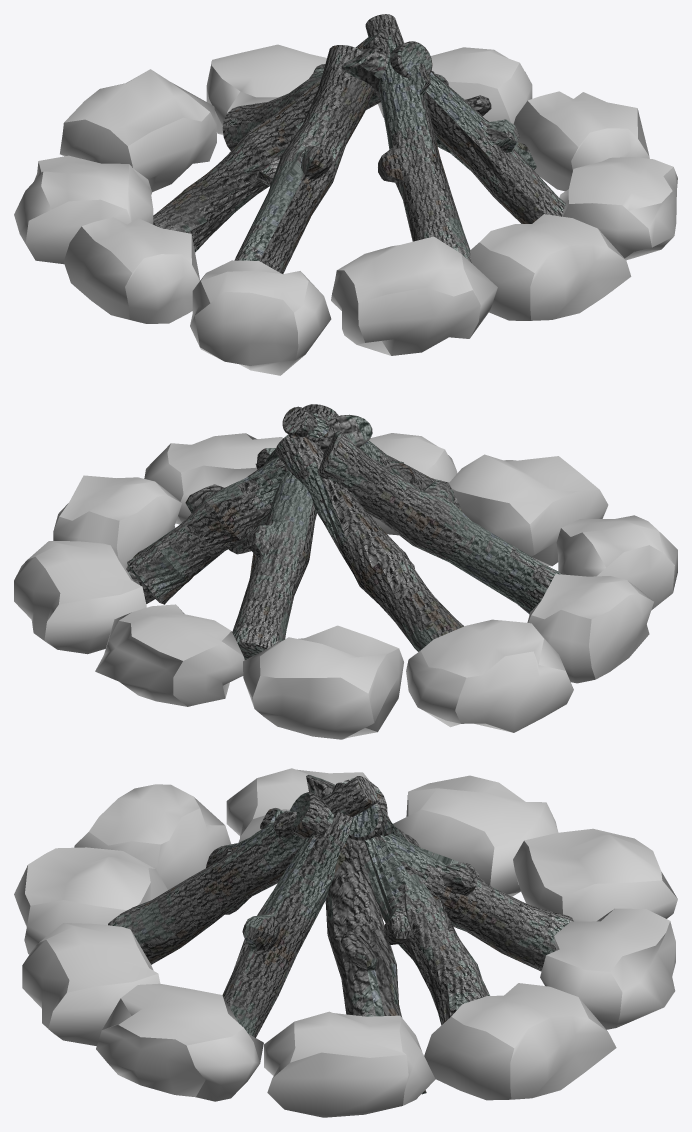
File: Ojagh.fbx
The picture shows the model from 3 angles, top to bottom: view 1: azimuth 30°, elevation 25°; view 2: azimuth 150°, elevation 25°; view 3: azimuth 270°, elevation 25°; orthographic projection. The views are drawn at different scales.
Visible parts, largest first — view 1: pCube6, pCube7, pCube11, pCube10, pCylinder7, pCube14, pCylinder12, pCube15, pCube8, pCylinder11, pCube9, pCylinder9 (+4 smaller); view 2: pCube15, pCube11, pCylinder7, pCube13, pCylinder9, pCube6, pCube12, pCube14, pCylinder8, pCylinder13, pCube9, pCube10 (+5 smaller); view 3: pCube12, pCube9, pCube8, pCube13, pCylinder12, pCube11, pCube7, pCylinder11, pCube15, pCylinder8, pCylinder13, pCube6 (+5 smaller).
Boxes of the visible parts, x1,y1,x2,y2 form: pCube6: [331, 236, 497, 355]; pCube7: [469, 214, 631, 320]; pCube11: [60, 69, 216, 191]; pCube10: [190, 260, 331, 375]; pCylinder7: [234, 45, 373, 273]; pCube14: [63, 217, 200, 323]; pCylinder12: [365, 14, 471, 262]; pCube15: [14, 155, 153, 264]; pCube8: [559, 157, 677, 260]; pCylinder11: [362, 28, 565, 223]; pCube9: [513, 91, 649, 191]; pCylinder9: [153, 38, 367, 252]; pCube15: [406, 619, 573, 732]; pCube11: [243, 625, 403, 739]; pCylinder7: [317, 431, 564, 614]; pCube13: [95, 604, 244, 706]; pCylinder9: [275, 434, 463, 651]; pCube6: [448, 454, 608, 566]; pCube12: [14, 541, 146, 654]; pCube14: [527, 574, 653, 683]; pCylinder8: [232, 404, 338, 659]; pCylinder13: [127, 442, 322, 604]; pCube9: [53, 475, 181, 568]; pCube10: [556, 515, 677, 610]; pCube12: [424, 983, 616, 1100]; pCube9: [264, 1011, 435, 1117]; pCube8: [96, 983, 263, 1101]; pCube13: [540, 908, 675, 1029]; pCylinder12: [108, 776, 377, 964]; pCube11: [513, 828, 677, 921]; pCube7: [22, 923, 160, 1045]; pCylinder11: [222, 782, 352, 1037]; pCube15: [393, 775, 558, 896]; pCylinder8: [289, 792, 573, 971]; pCylinder13: [350, 834, 489, 1025]; pCube6: [14, 847, 167, 954].
Bounding box in the file's own units: 16.38 × 6.36 × 15.54.
